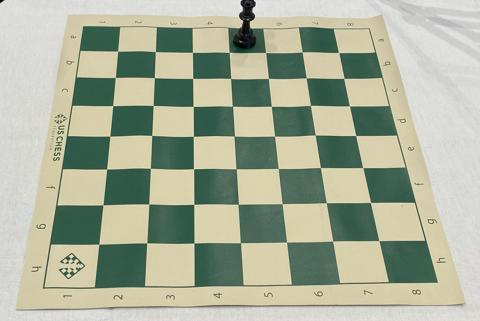xcorner: (333, 46, 344, 57), (296, 46, 307, 57), (260, 46, 271, 57), (223, 46, 234, 57), (186, 46, 197, 57), (149, 46, 160, 57), (112, 46, 123, 57), (338, 72, 349, 83), (301, 72, 312, 83), (263, 72, 274, 83), (225, 72, 236, 83), (186, 72, 197, 83), (148, 72, 159, 83), (109, 72, 120, 83), (344, 99, 355, 110), (305, 99, 316, 110), (266, 99, 277, 110), (187, 100, 198, 111), (147, 100, 158, 111), (106, 100, 117, 111), (351, 129, 362, 140), (310, 129, 321, 140), (269, 129, 280, 140), (228, 130, 239, 141), (187, 130, 198, 141), (145, 130, 156, 141), (103, 130, 114, 141), (358, 161, 369, 172), (273, 162, 284, 173), (230, 162, 241, 173), (144, 163, 155, 174), (100, 163, 111, 174), (365, 196, 376, 207), (321, 197, 332, 208), (277, 197, 288, 208), (232, 198, 243, 209), (187, 198, 198, 209), (142, 198, 153, 209), (97, 199, 108, 210), (374, 235, 385, 246), (328, 235, 339, 246), (281, 236, 292, 247), (235, 236, 246, 247), (188, 237, 199, 248), (140, 237, 151, 248), (93, 238, 104, 249), (226, 100, 237, 110), (316, 162, 326, 173), (187, 163, 198, 173)
